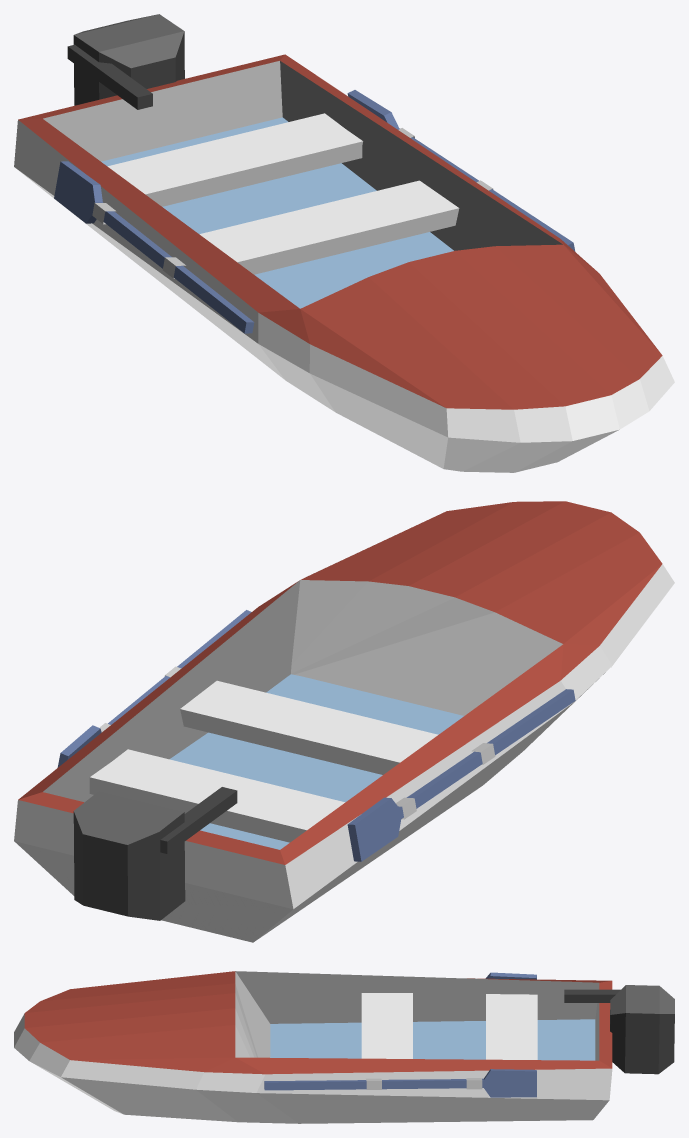
File: transport_water_008.glb
The picture shows the model from 3 angles, top to bottom: view 1: azimuth 30°, elevation 25°; view 2: azimuth 150°, elevation 25°; view 3: azimuth 270°, elevation 25°; orthographic projection. The views are drawn at different scales.
Visible parts, largest first — view 1: transport_water_008; view 2: transport_water_008; view 3: transport_water_008.
Part boxes in pixels (<box>): transport_water_008: <box>14,14,674,472</box>; transport_water_008: <box>14,501,674,942</box>; transport_water_008: <box>14,971,674,1123</box>.
Bounding box in the file's own units: 1.84 × 0.7285 × 4.72.
Materials: 1 (1 with a texture image).
